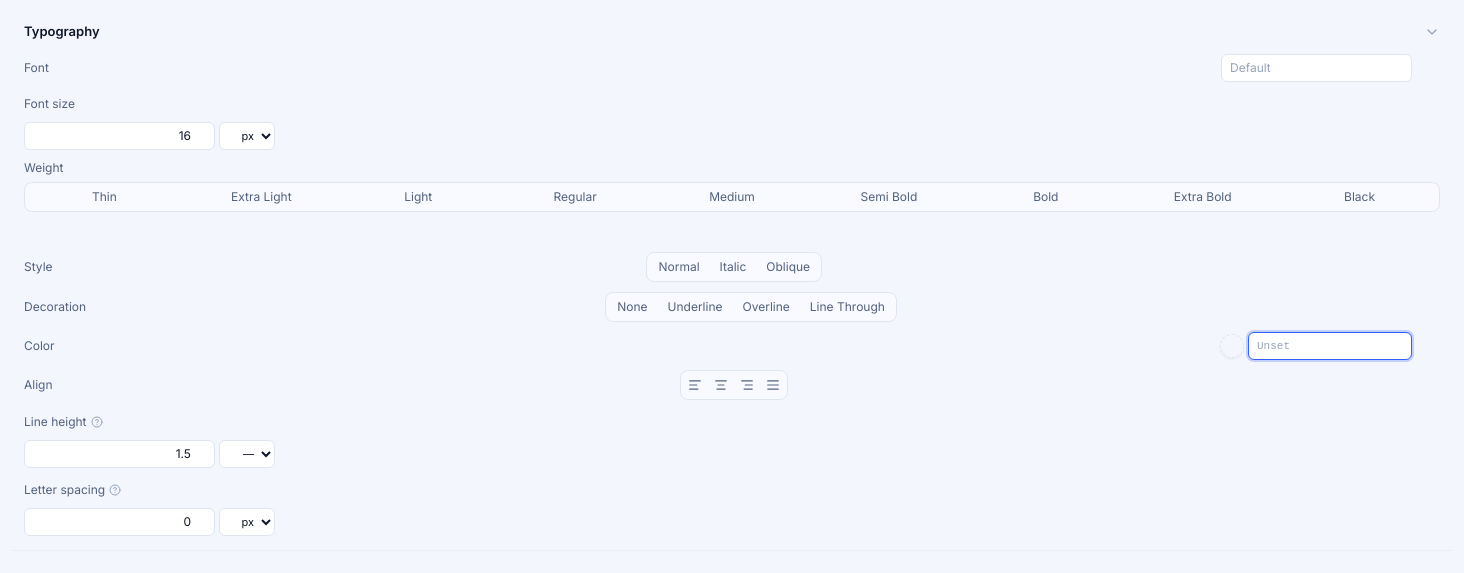
live color text editing (BC-01.4) › an invalid final draft reverts the whole edit (and the field) instead of keeping an intermediate color
Type "#ff0000" into the field named "Text color".
click(1330, 346); type("#ff0000")  # box [1248,332,1412,360]
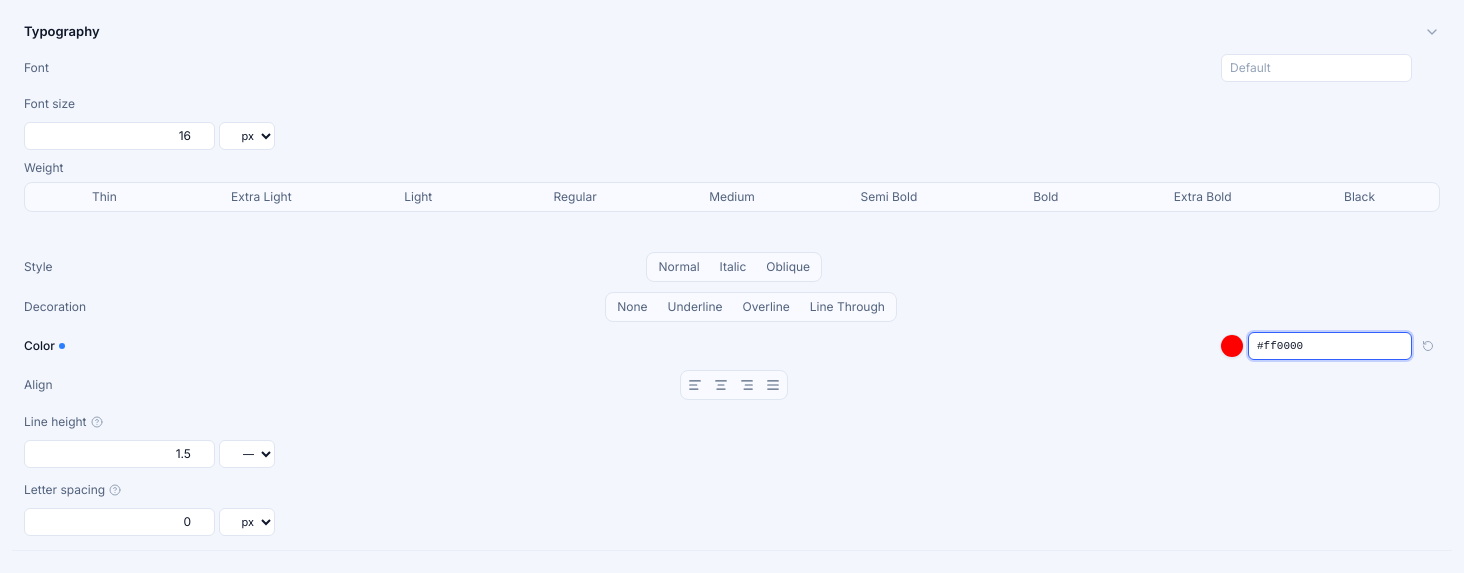
Replace the text in the field named "Text color" with "#ff00zz" at {"x": 1330, "y": 346}, box [1248,332,1412,360]
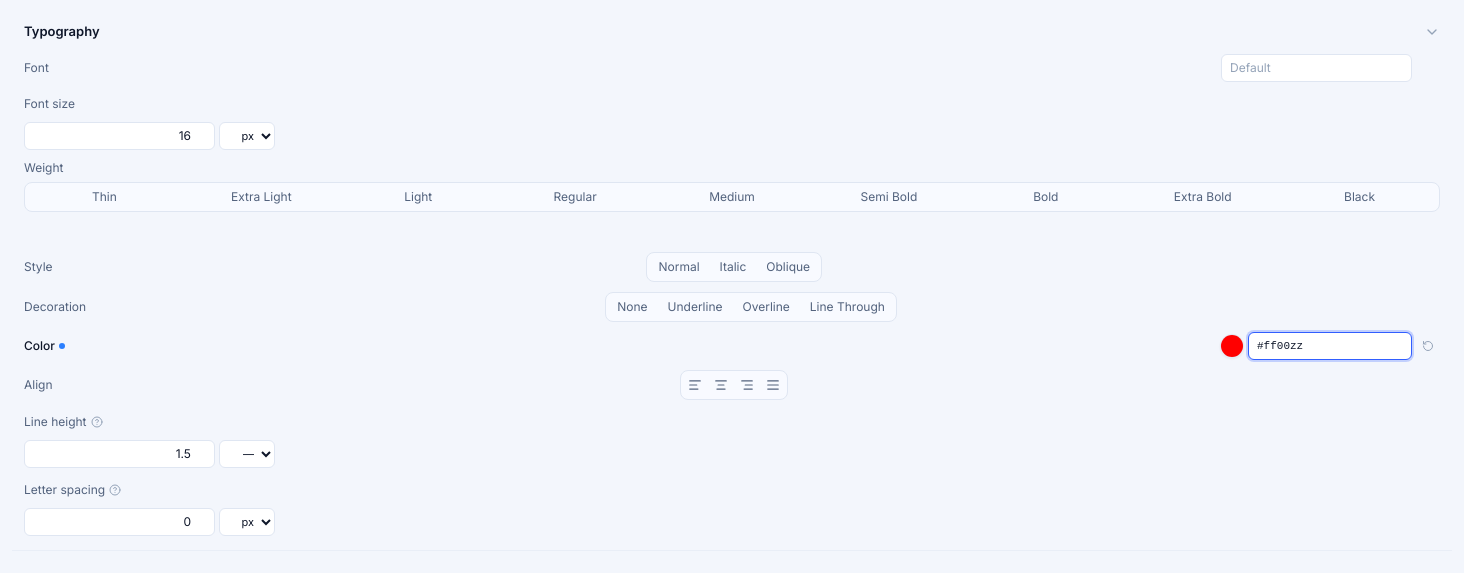
Press Enter in the field named "Text color", box [1248,332,1412,360]
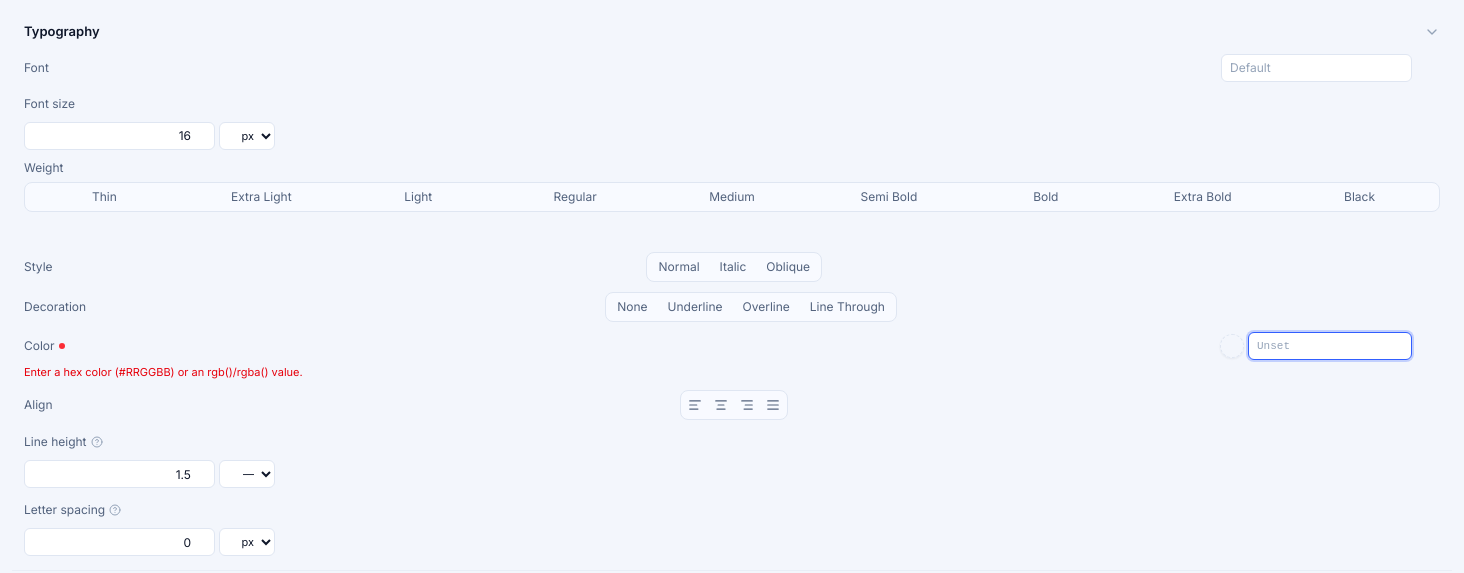
expect the field named "Text color" is empty: met
expect the message shows "Enter a hex color": met, box [24,364,303,378]
Type "#0" into the field named "Text color".
click(1330, 346); type("#0")  # box [1248,332,1412,360]
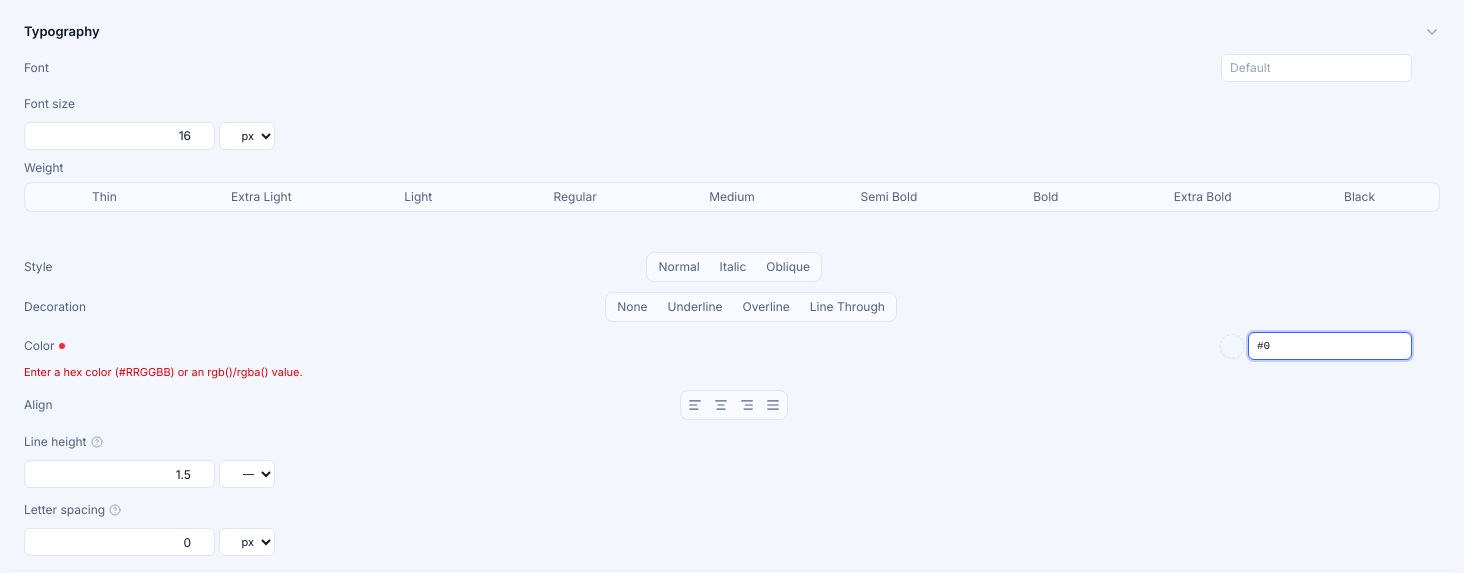
Press Escape in the field named "Text color", box [1248,332,1412,360]
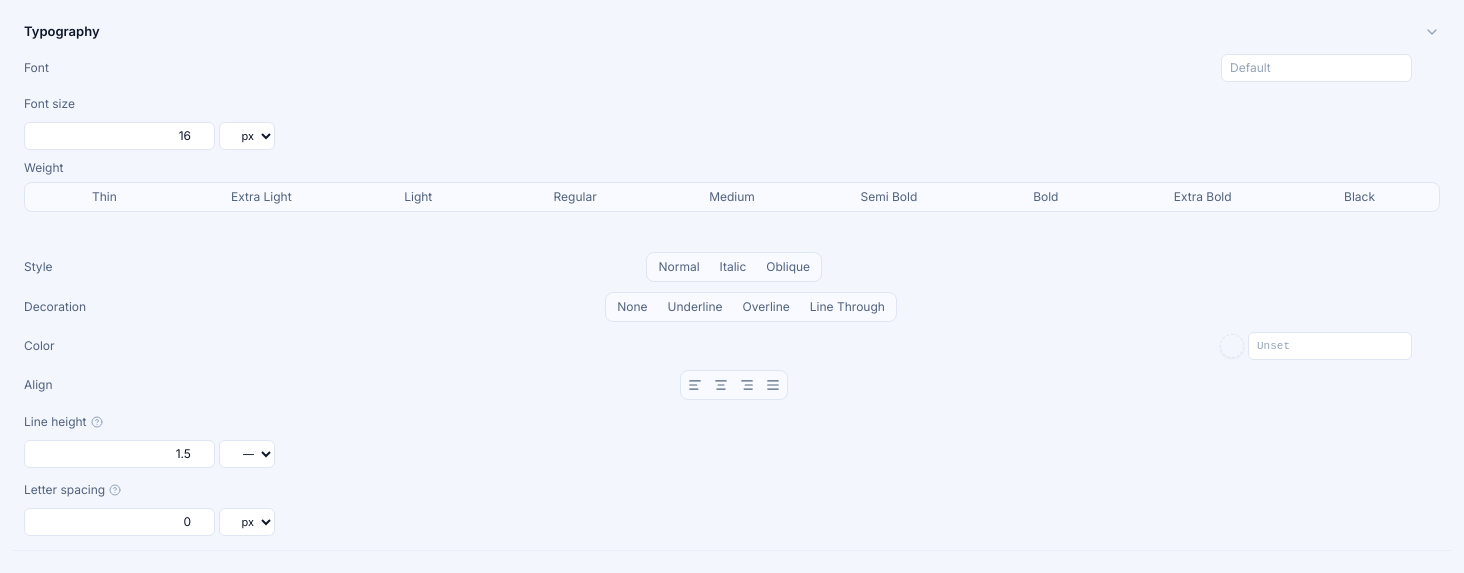
expect the message "Enter a hex color (#RRGGBB) or an rgb()/rgba() value." is gone: met
